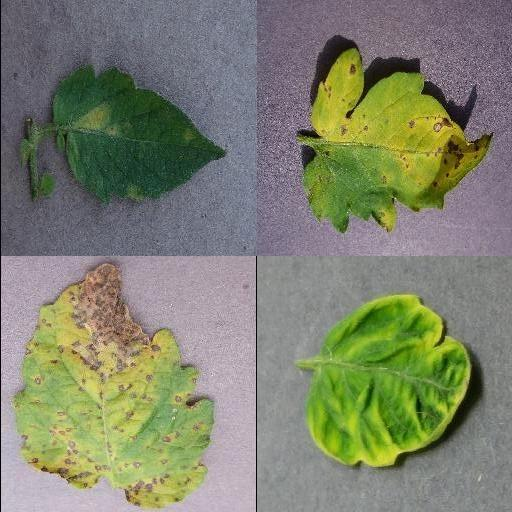Leaf Mold: (49, 66, 229, 207)
Septoria: (14, 263, 215, 511), (300, 51, 494, 234)
Yellow Leaf Curl Virus: (306, 294, 472, 470)
